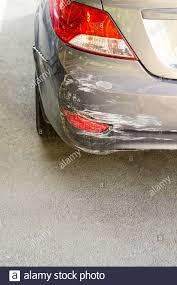rear-bumper-dent: (27, 46, 176, 179)
